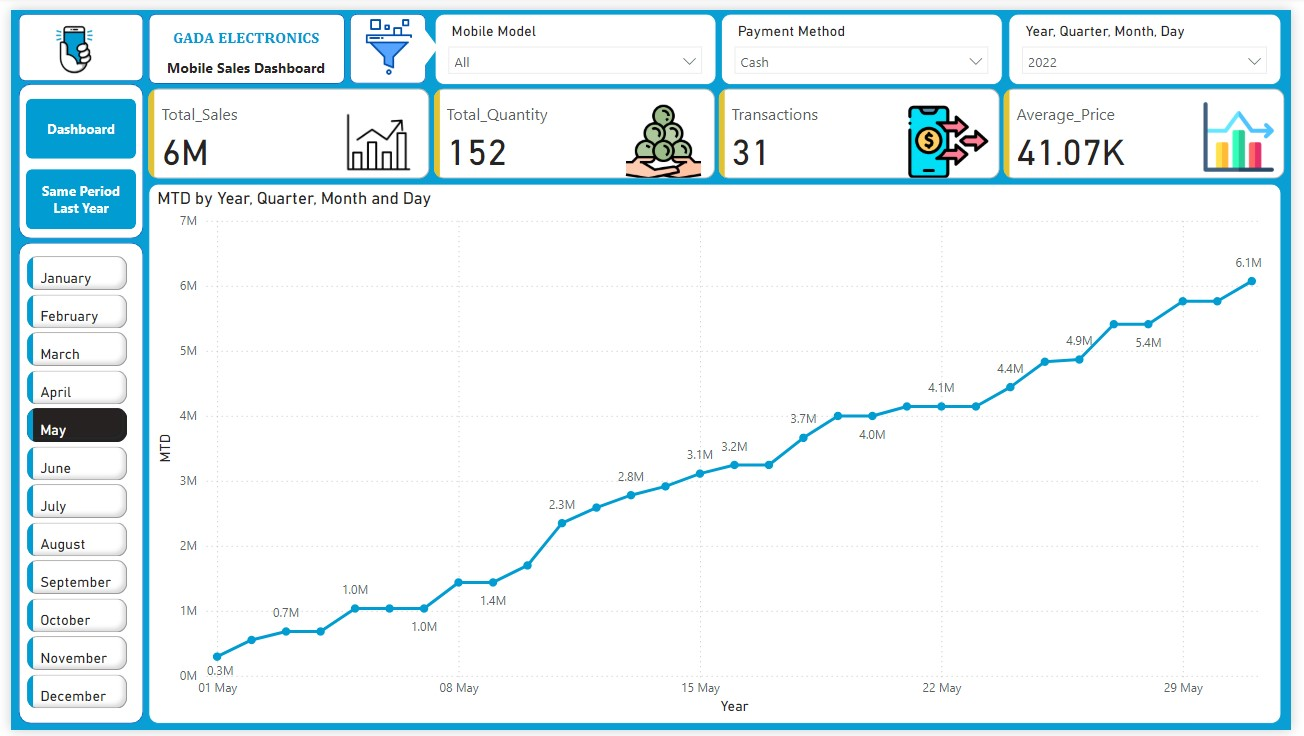

The dashboard page shown, as its layout file describes it:
{"tool":"powerbi","page":{"name":"MTD Report","canvas":[1280,720],"ordinal":1},"visuals":[{"type":"shape","box":[7.5,3.8,125,67.5],"z":0},{"type":"image","box":[23.8,3.8,78.8,71.2],"z":1000},{"type":"shape","box":[7.5,73.8,125,155],"z":2000},{"type":"cardVisual","fields":{"Data":["Sales_Data.Total_Sales","Sales_Data.Total_Quantity","Sales_Data.Transactions","Sales_Data.Average_Price"]},"box":[132.5,73.8,1147.5,100],"z":3000},{"type":"slicer","fields":{"Values":["Sales_Data.Mobile Model"]},"box":[423.8,3.8,281.2,71.2],"z":4000},{"type":"slicer","fields":{"Values":["Sales_Data.Payment Method"]},"box":[710,3.8,281.2,71.2],"z":5000},{"type":"slicer","fields":{"Values":["Custom_Calendar.Date.Variation.Date Hierarchy.Year","Custom_Calendar.Date.Variation.Date Hierarchy.Quarter","Custom_Calendar.Date.Variation.Date Hierarchy.Month","Custom_Calendar.Date.Variation.Date Hierarchy.Day"]},"box":[997.5,3.8,272.5,71.2],"z":6000},{"type":"shape","box":[338.8,3.8,76.2,70],"z":7000},{"type":"image","box":[337.5,3.8,81.2,66.2],"z":8000},{"type":"shape","box":[397.5,17.5,30,40],"z":9000},{"type":"lineChart","fields":{"Y":["Sales_Data.MTD"],"Category":["Custom_Calendar.Date.Variation.Date Hierarchy.Year","Custom_Calendar.Date.Variation.Date Hierarchy.Quarter","Custom_Calendar.Date.Variation.Date Hierarchy.Month","Custom_Calendar.Date.Variation.Date Hierarchy.Day"]},"box":[137.5,173.8,1132.5,540],"z":10000},{"type":"shape","box":[7.5,232.5,125,481.2],"z":11000},{"type":"shape","box":[138.1,3.6,196.4,70.2],"z":12000,"group":"g1"},{"type":"advancedSlicerVisual","fields":{"Values":["Custom_Calendar.Date.Variation.Date Hierarchy.Month"]},"box":[11.2,241.2,110,472.5],"z":12000},{"type":"textbox","box":[145.8,42.7,179.8,29.8],"z":13000,"group":"g1"},{"type":"pageNavigator","box":[15,88.8,110,130],"z":13000},{"type":"group","id":"g1","title":"Group 1","box":[138.1,3.6,196.4,70.2],"z":14000},{"type":"textbox","box":[145.8,12.9,179.8,29.8],"z":22000,"group":"g1"}]}

Visuals, with their boxes in screenshot pixels (x1, y1, x2, y2), scaled from the page's 1280x720 canvas onto the 1304x736 screenshot:
shape: select_region(8, 4, 135, 73)
image: select_region(24, 4, 105, 77)
shape: select_region(8, 75, 135, 234)
cardVisual - Sales_Data.Total_Sales x Sales_Data.Total_Quantity: select_region(135, 75, 1303, 178)
slicer - Sales_Data.Mobile Model: select_region(432, 4, 718, 77)
slicer - Sales_Data.Payment Method: select_region(723, 4, 1010, 77)
slicer - Custom_Calendar.Date.Variation.Date Hierarchy.Year x Custom_Calendar.Date.Variation.Date Hierarchy.Quarter: select_region(1016, 4, 1294, 77)
shape: select_region(345, 4, 423, 75)
image: select_region(344, 4, 427, 72)
shape: select_region(405, 18, 436, 59)
lineChart - Sales_Data.MTD x Custom_Calendar.Date.Variation.Date Hierarchy.Year: select_region(140, 178, 1294, 730)
shape: select_region(8, 238, 135, 730)
shape: select_region(141, 4, 341, 75)
advancedSlicerVisual - Custom_Calendar.Date.Variation.Date Hierarchy.Month: select_region(11, 247, 123, 730)
textbox: select_region(149, 44, 332, 74)
pageNavigator: select_region(15, 91, 127, 224)
"Group 1" group: select_region(141, 4, 341, 75)
textbox: select_region(149, 13, 332, 44)
